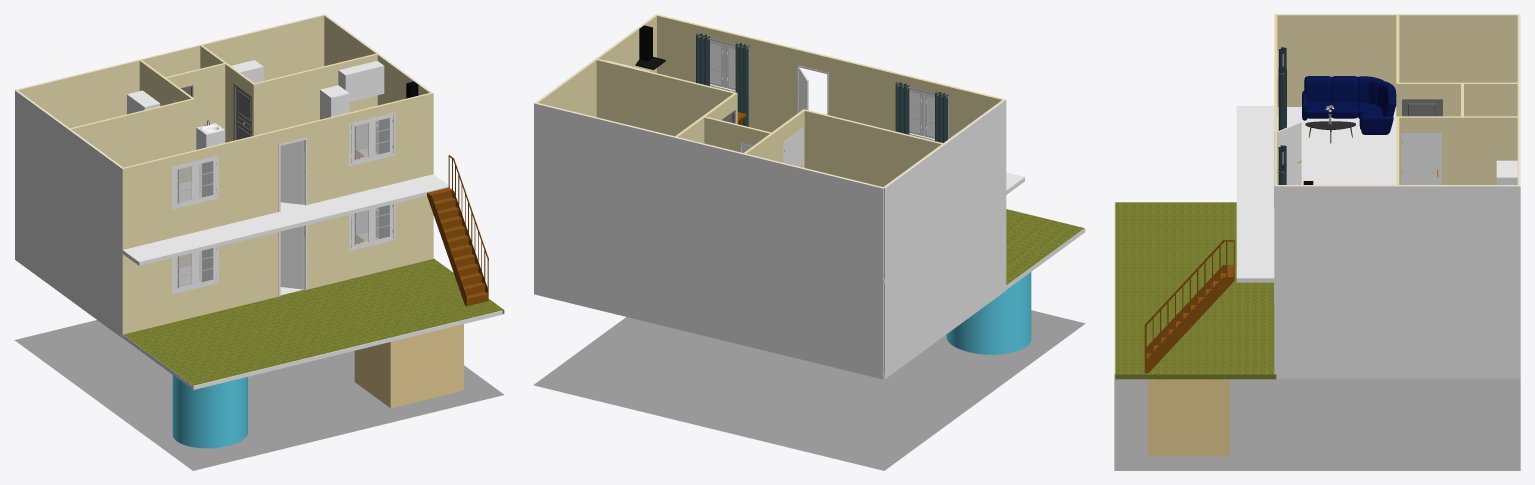
The model's file is planoceci2.glb.
The picture shows the model from 3 angles, left to right: view 1: azimuth 30°, elevation 25°; view 2: azimuth 150°, elevation 25°; view 3: azimuth 270°, elevation 25°; orthographic projection. The views are drawn at different scales.
Visible parts, largest first — view 1: ground_1, room_33_184, wall_16_94, wall_1_4, room_35_186, wall_17_101, front_585, texturableCylinder_32_578, wall_23_136, wall_8_46, wall_20_119, wall_9_52 (+22 smaller); view 2: ground_1, wall_5_28, wall_15_88, wall_30_178, wall_20_118, wall_16_95, wall_14_82, wall_29_172, wall_17_100, wall_18_107, wall_9_52, wall_24_142 (+13 smaller); view 3: ground_1, room_33_184, room_35_186, wall_22_130, wall_7_40, wall_6_34, wall_21_124, wall_24_143, wall_23_137, right_583, wall_28_167, wall_27_161 (+14 smaller).
Boxes of the visible parts, <box> form: ground_1: <box>14,320,504,470</box>; room_33_184: <box>123,258,504,385</box>; wall_16_94: <box>122,93,433,249</box>; wall_1_4: <box>122,196,433,338</box>; room_35_186: <box>123,148,448,264</box>; wall_17_101: <box>71,99,194,183</box>; front_585: <box>390,324,463,408</box>; texturableCylinder_32_578: <box>172,375,247,448</box>; wall_23_136: <box>68,129,122,253</box>; wall_8_46: <box>68,214,122,338</box>; wall_20_119: <box>18,60,139,128</box>; wall_9_52: <box>15,175,68,298</box>; ground_1: <box>533,310,1085,470</box>; wall_5_28: <box>743,250,883,379</box>; wall_15_88: <box>534,199,674,328</box>; wall_30_178: <box>534,103,674,233</box>; wall_20_118: <box>743,154,883,283</box>; wall_16_95: <box>657,15,1001,138</box>; wall_14_82: <box>675,233,743,345</box>; wall_29_172: <box>675,138,743,249</box>; wall_17_100: <box>804,111,941,186</box>; wall_18_107: <box>596,60,733,136</box>; wall_9_52: <box>883,240,945,378</box>; wall_24_142: <box>883,144,945,283</box>; ground_1: <box>1114,378,1520,470</box>; room_33_184: <box>1115,202,1276,379</box>; room_35_186: <box>1236,106,1396,277</box>; wall_22_130: <box>1274,186,1397,282</box>; wall_7_40: <box>1274,282,1397,378</box>; wall_6_34: <box>1398,282,1520,378</box>; wall_21_124: <box>1398,186,1520,282</box>; wall_24_143: <box>1399,15,1517,82</box>; wall_23_137: <box>1277,15,1396,106</box>; right_583: <box>1147,379,1229,456</box>; wall_28_167: <box>1462,117,1517,184</box>; wall_27_161: <box>1399,117,1462,184</box>.
Bounding box in the file's own units: 1009 × 774 × 1002.
40 materials, 1 textured.
